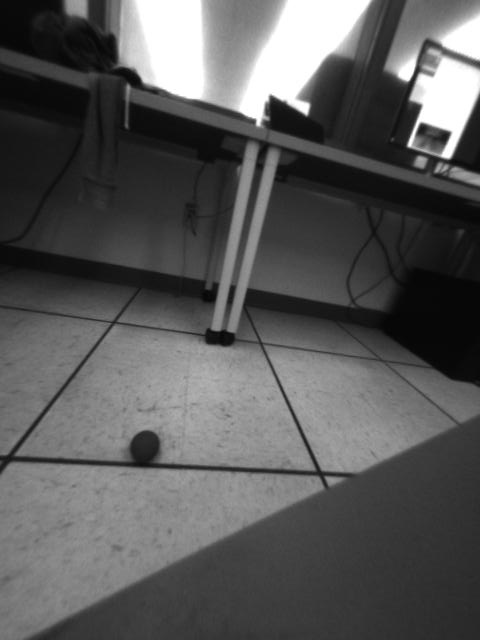dogtoy: (122, 424, 164, 472)
